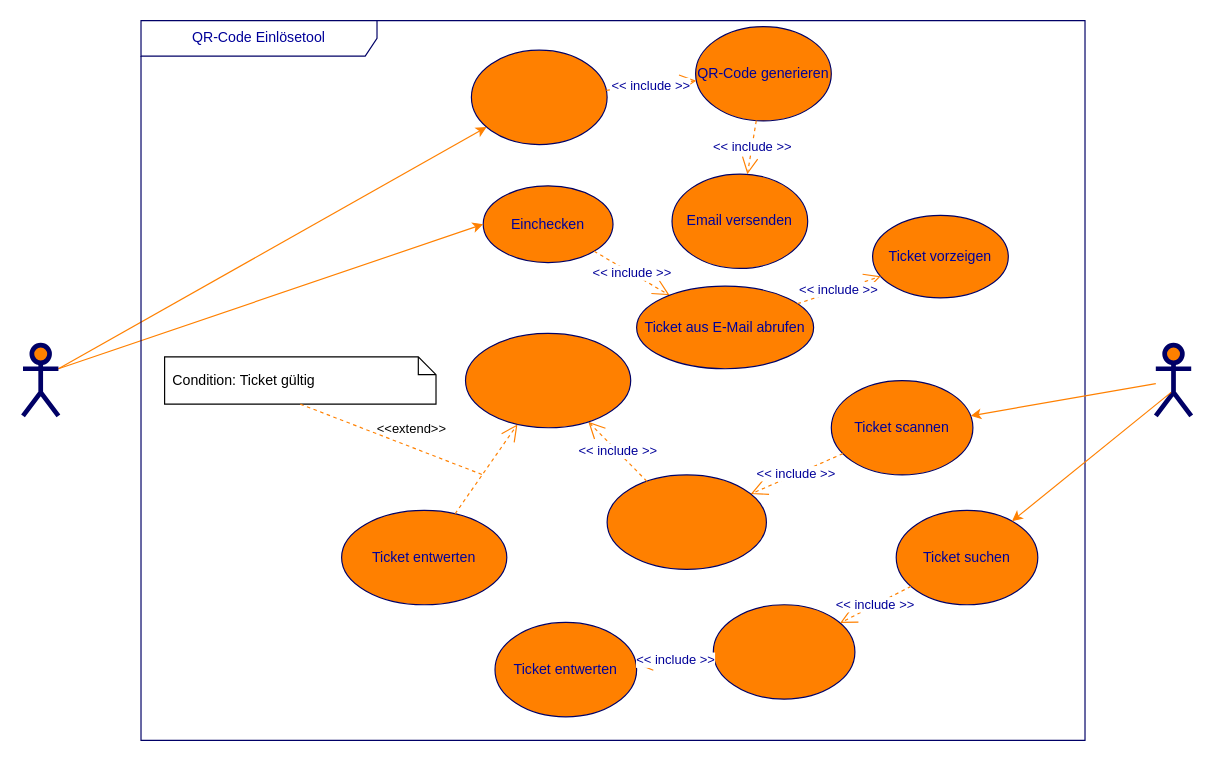
Image size: 1227x761. Some labels were removed from this diagram. The box of each missing label's shape, as (x1, y1, x2, y2) in pixels:
Bestellung aufgeben: (470, 49, 607, 145)
Gültiges Ticket auswählen: (712, 604, 855, 699)
Kunde: (20, 342, 60, 418)
Mitarbeiter: (1153, 342, 1193, 418)
Ticketdetails von Server abfragen: (606, 474, 766, 569)
Wertigkeit überprüfen: (464, 332, 631, 428)
